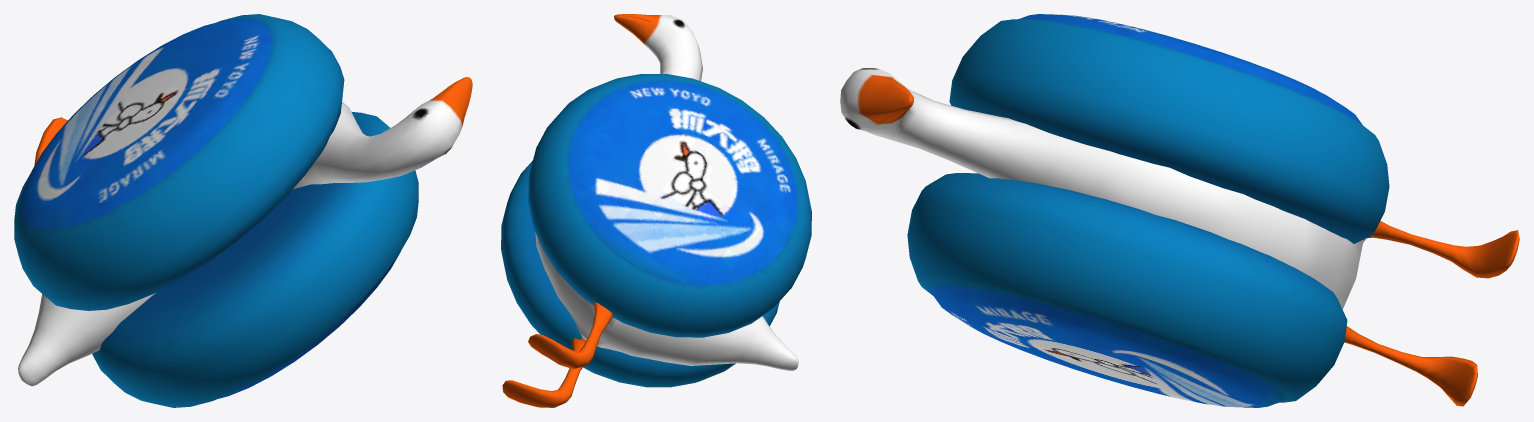
Rendered from ref_goose_gtyoyo.glb.
The picture shows the model from 3 angles, left to right: view 1: azimuth 30°, elevation 25°; view 2: azimuth 150°, elevation 25°; view 3: azimuth 270°, elevation 25°; orthographic projection. The views are drawn at different scales.
Visible parts, largest first — view 1: ref_goose_gtyoyo_part0, ref_goose_gtyoyo_part1; view 2: ref_goose_gtyoyo_part0, ref_goose_gtyoyo_part1; view 3: ref_goose_gtyoyo_part0, ref_goose_gtyoyo_part1.
Part boxes in pixels (<box>): ref_goose_gtyoyo_part0: <box>14,14,418,407</box>; ref_goose_gtyoyo_part1: <box>18,77,472,386</box>; ref_goose_gtyoyo_part0: <box>501,74,811,387</box>; ref_goose_gtyoyo_part1: <box>502,14,798,407</box>; ref_goose_gtyoyo_part0: <box>907,14,1389,407</box>; ref_goose_gtyoyo_part1: <box>840,68,1519,406</box>.
Size of the model in its own units: 0.7439 by 0.6669 by 1.
2 materials, 2 textured.
